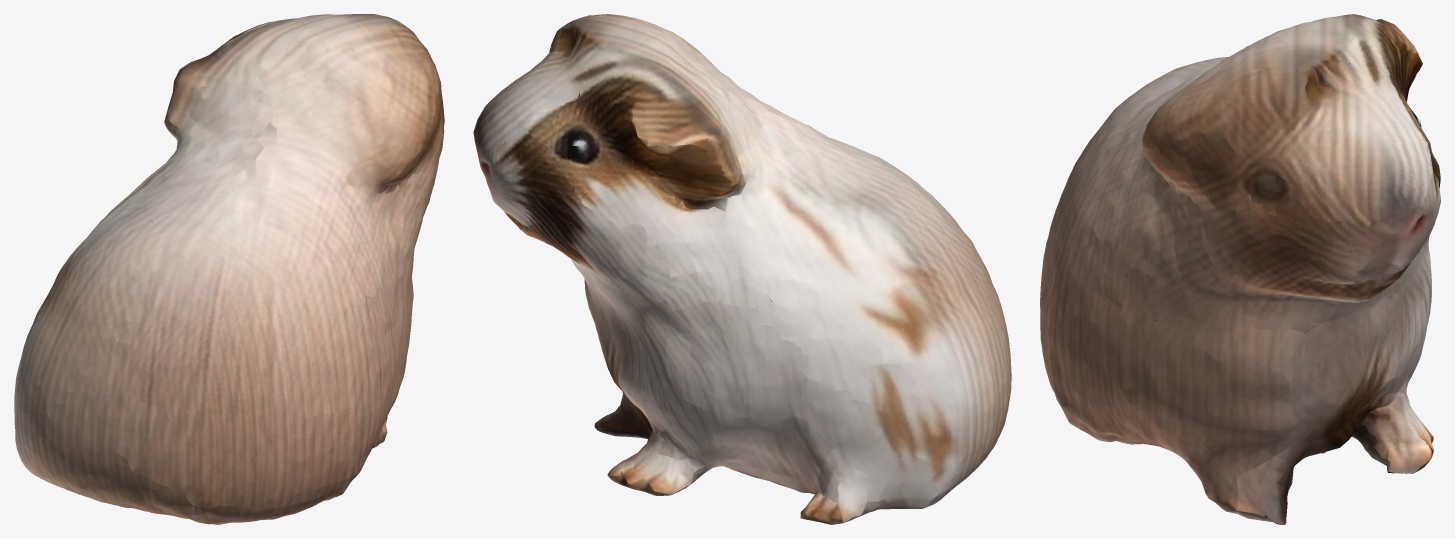
File: 13_31_12_21_guinea-pig-figurine.glb
3 renders of one model, left to right at view 1: azimuth 30°, elevation 25°; view 2: azimuth 150°, elevation 25°; view 3: azimuth 270°, elevation 25°, orthographic. The views are drawn at different scales.
Visible parts, largest first — view 1: world; view 2: world; view 3: world.
Part boxes in pixels (x1=…): world: x1=14, y1=14, x2=444, y2=524; world: x1=473, y1=14, x2=1011, y2=524; world: x1=1040, y1=14, x2=1440, y2=524.
Bounding box in the file's own units: 0.8751 × 0.7508 × 0.5814.
1 material, 1 textured.
